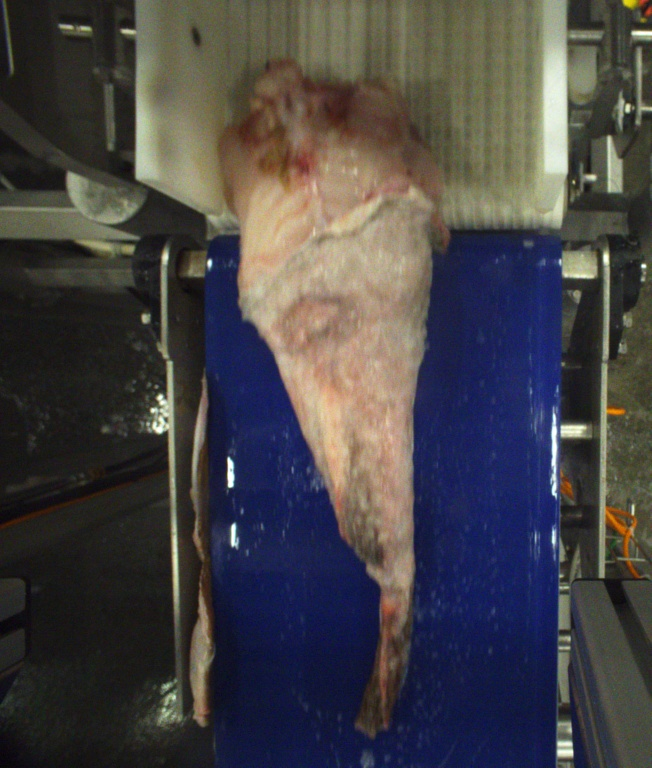ANF: (212, 73, 440, 738)
